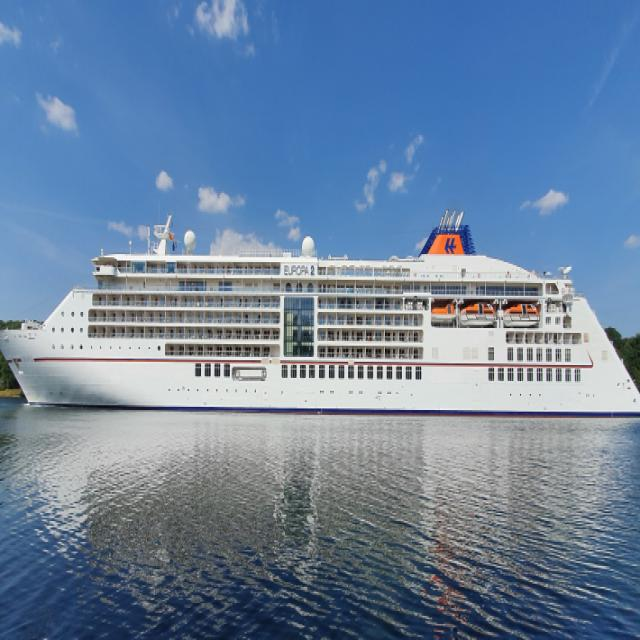cruises: (1, 204, 640, 427)
